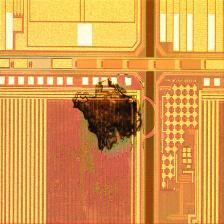PARTICLE: (72, 76, 149, 157)
